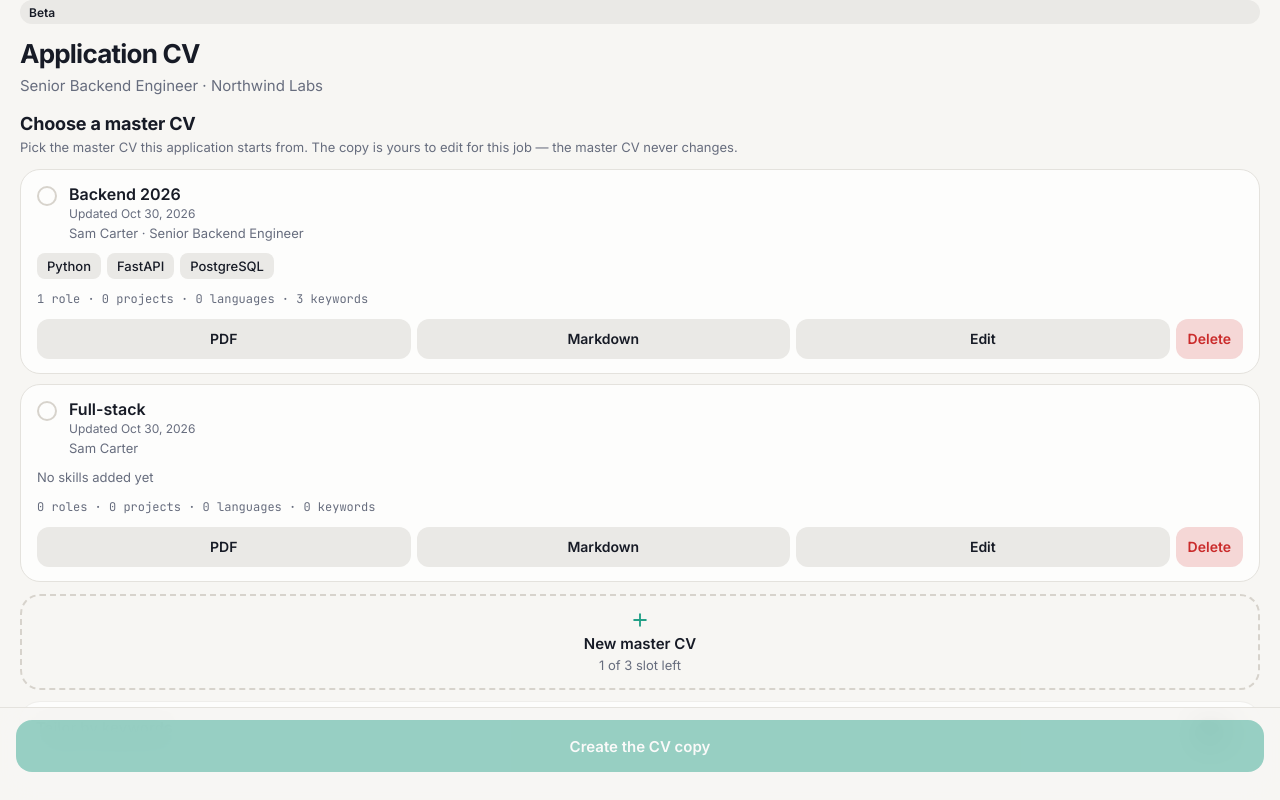
Test: ApplicationCvScreenView: the picker › Cancel closes the master CV sheet and deletes nothing
The width and height of the screenshot is (1280, 800).
Click the button with aria-label "Delete Full-stack": (1209, 547) [1176,525,1243,569]
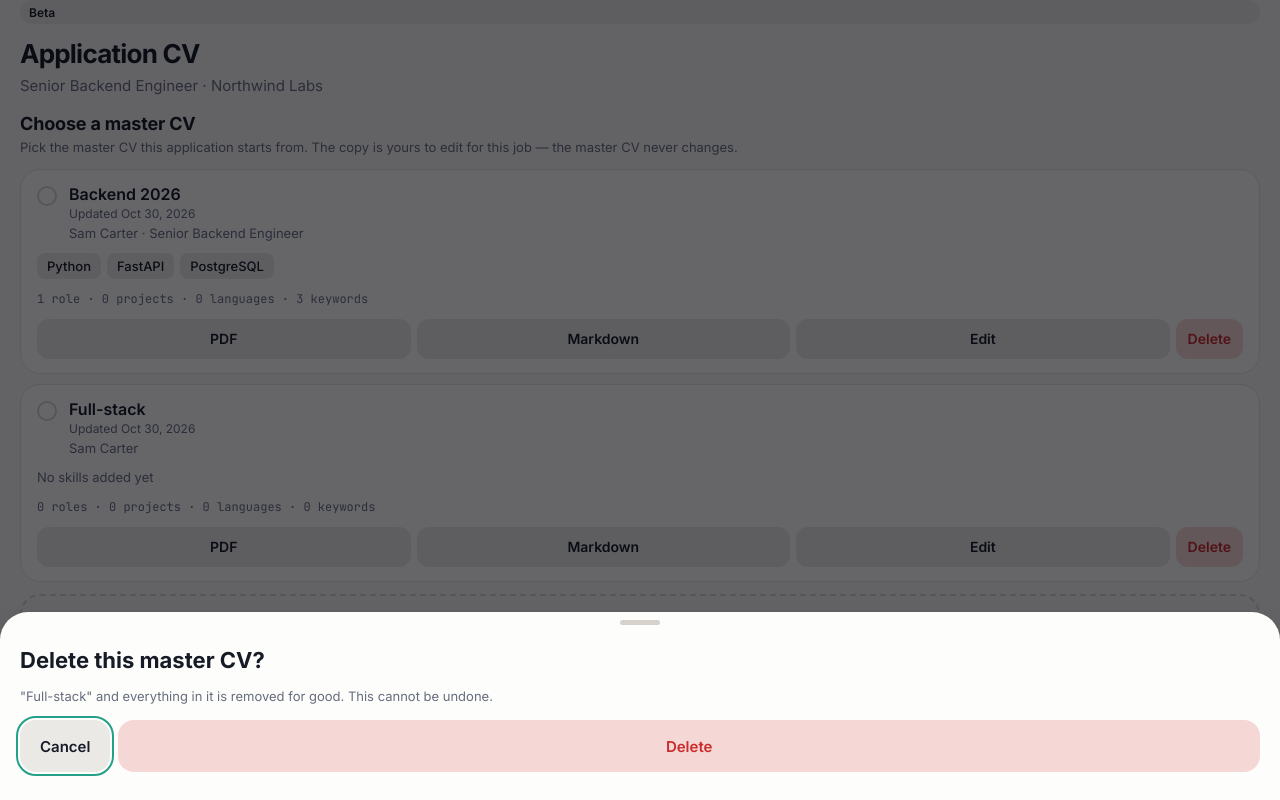
Click the button "Cancel": (65, 746) [20,720,110,772]
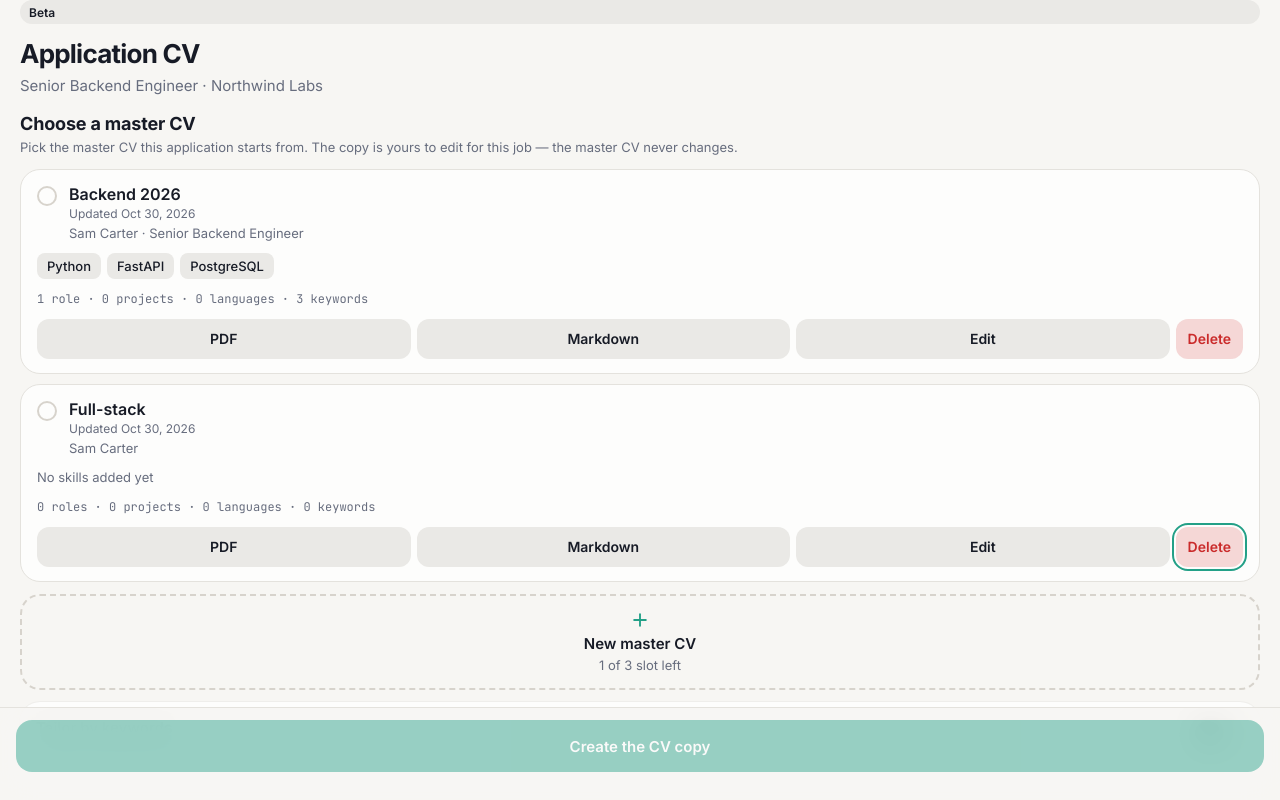
Expected: the dialog is gone
